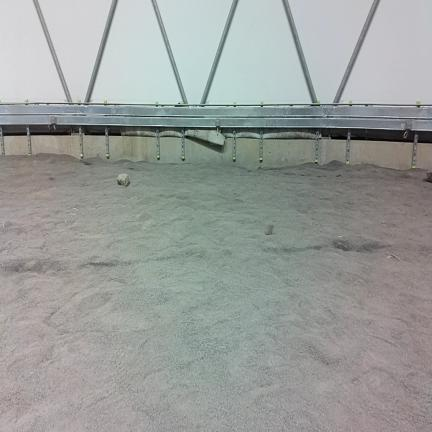Rock: (117, 174, 129, 186), (265, 224, 274, 235), (427, 171, 431, 182), (49, 176, 54, 180)
